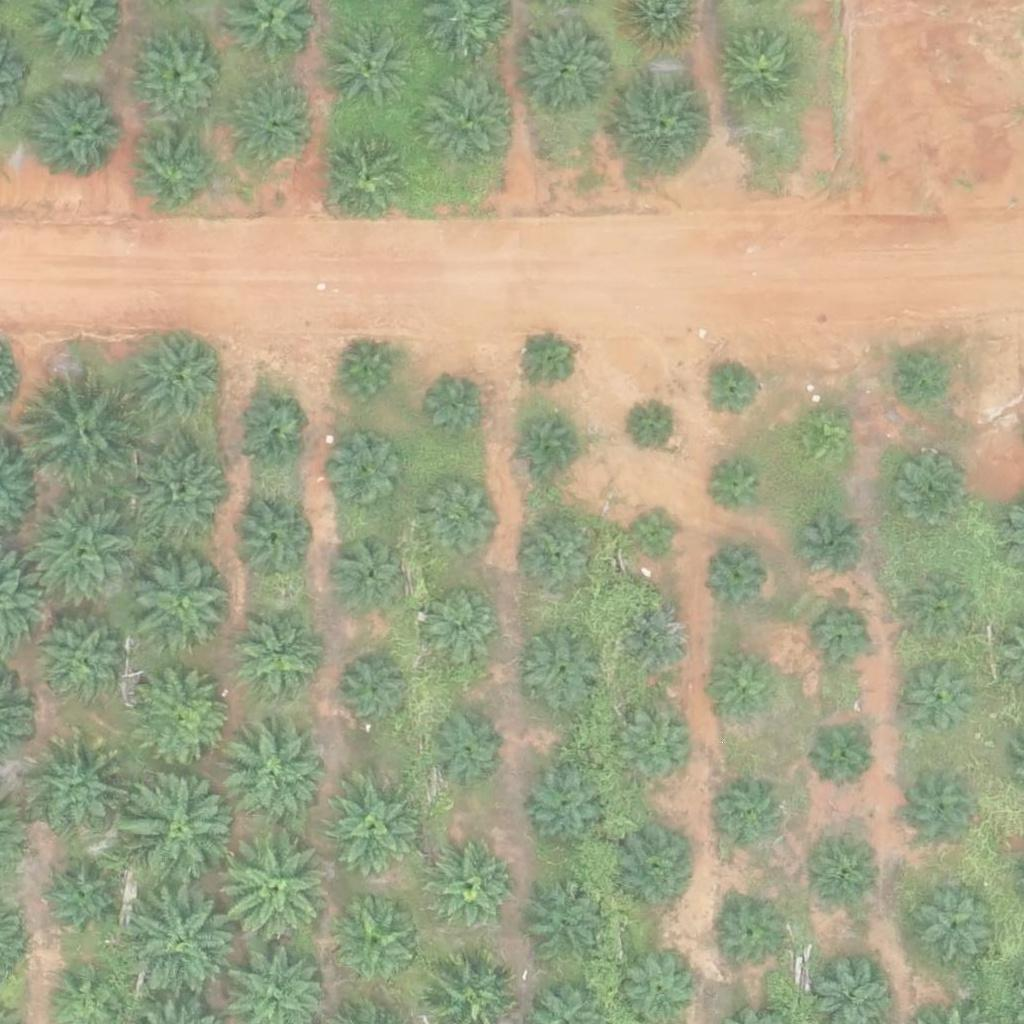Kelapa_Sawit: (23, 367, 148, 493), (19, 490, 144, 616), (121, 766, 246, 892), (121, 879, 246, 1005), (213, 826, 338, 952), (417, 66, 517, 167), (517, 18, 617, 119), (616, 72, 716, 173), (31, 737, 131, 838), (31, 80, 131, 180), (133, 26, 233, 126), (128, 330, 228, 430), (132, 446, 232, 546), (132, 553, 232, 653), (134, 670, 234, 770), (225, 726, 325, 826), (319, 777, 419, 877), (915, 884, 1003, 973), (519, 624, 607, 712), (614, 824, 702, 912), (232, 82, 320, 170), (328, 22, 416, 110), (325, 132, 413, 220), (722, 29, 810, 117), (234, 616, 322, 704), (523, 764, 611, 852), (332, 901, 420, 989), (229, 495, 316, 583), (133, 129, 220, 217), (40, 620, 127, 708), (428, 845, 515, 933), (523, 883, 610, 971), (423, 586, 498, 662), (333, 534, 408, 610), (338, 653, 413, 729), (427, 709, 502, 785), (906, 567, 981, 643), (890, 457, 965, 533), (233, 395, 308, 471), (331, 437, 406, 512), (424, 479, 499, 554), (522, 523, 597, 598), (716, 899, 791, 974), (704, 783, 779, 858), (905, 774, 980, 849), (906, 658, 981, 733), (614, 709, 689, 784), (42, 863, 117, 938), (621, 608, 696, 683), (793, 513, 868, 588), (807, 603, 882, 678), (805, 717, 880, 792), (808, 841, 883, 916), (516, 327, 579, 390), (517, 416, 580, 479), (714, 656, 777, 719), (791, 411, 854, 474), (883, 349, 946, 412), (336, 343, 398, 406), (426, 376, 488, 439), (701, 358, 763, 421), (705, 458, 767, 521), (705, 545, 767, 608), (631, 402, 681, 453), (630, 508, 680, 559)
